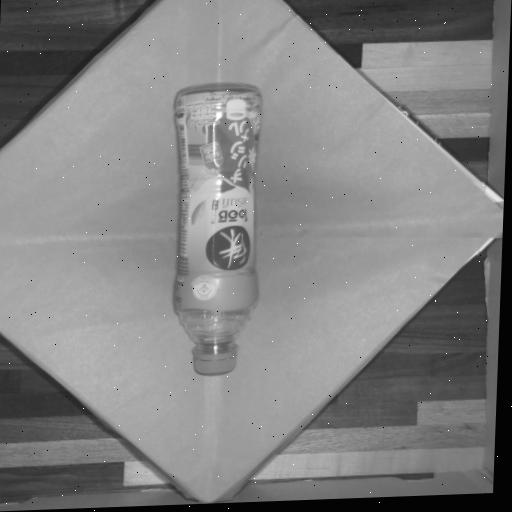bottle: (151, 73, 280, 393)
